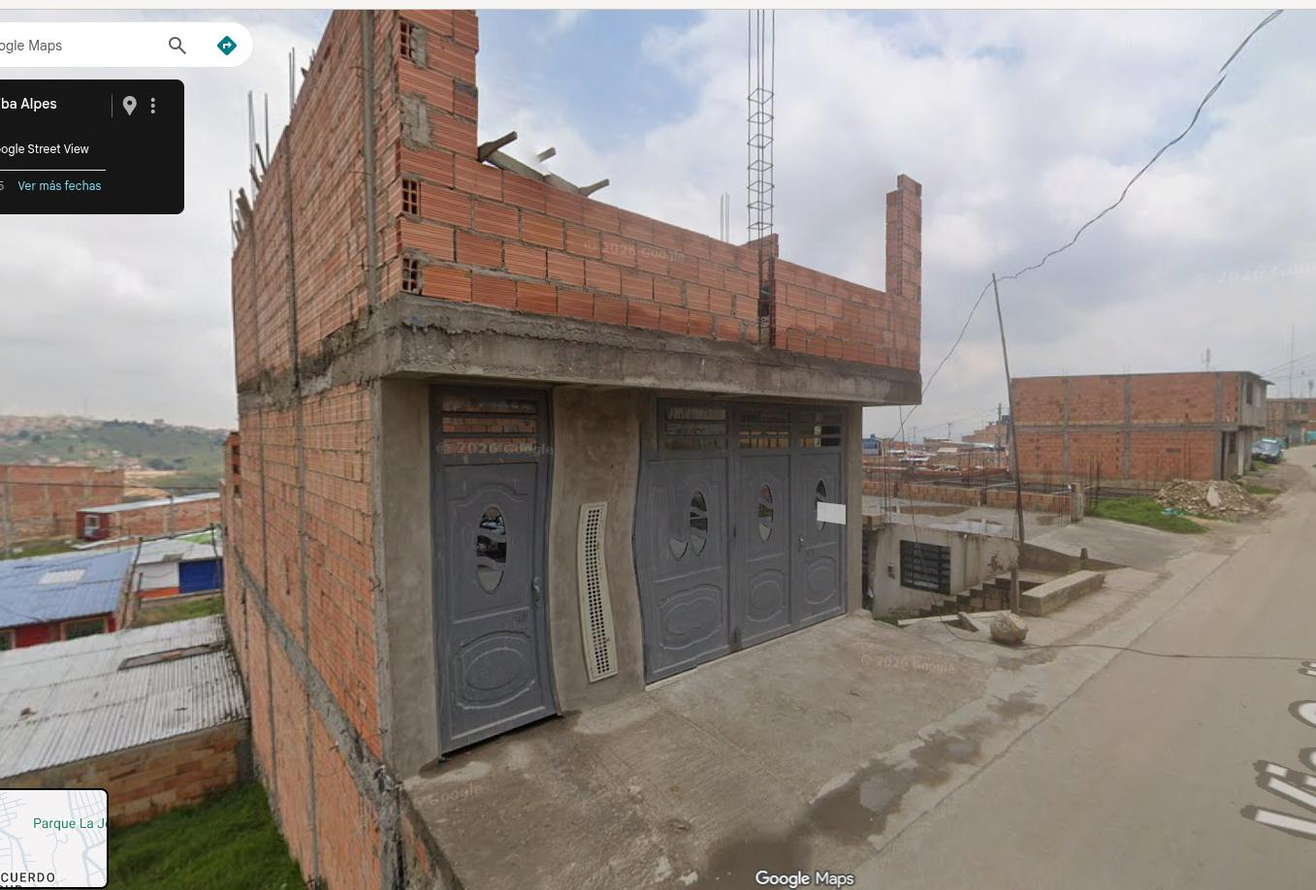casa: (311, 13, 920, 774)
